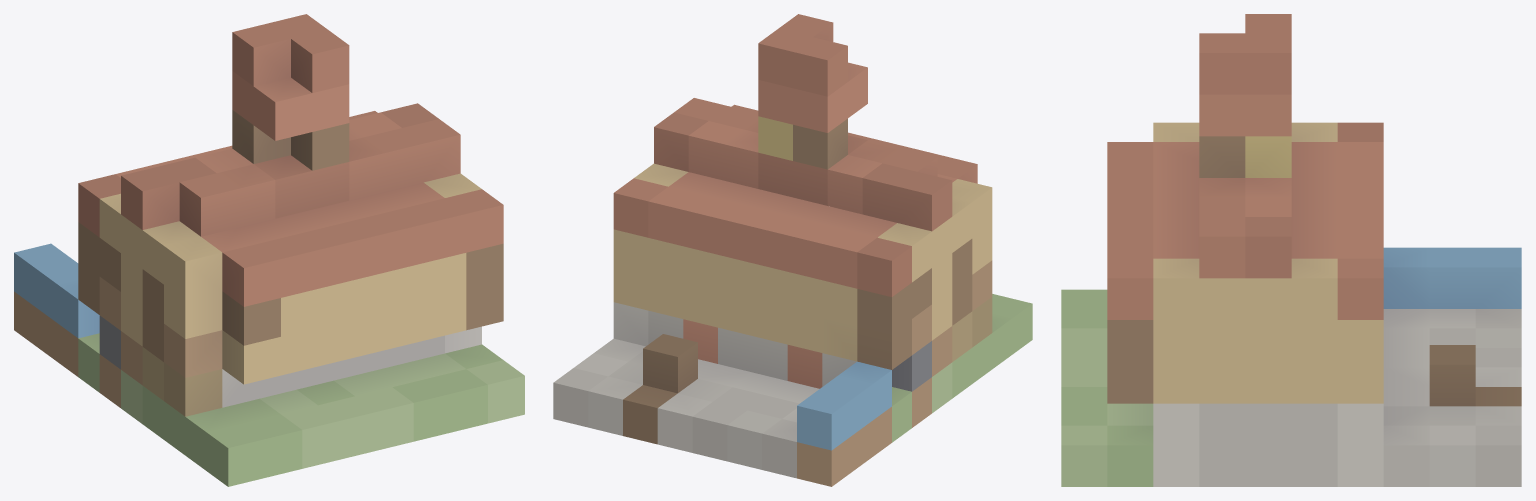
Rendered from fire_station.l1.lite.glb.
3 views of the same model, side by side, from view 1: azimuth 30°, elevation 25°; view 2: azimuth 150°, elevation 25°; view 3: azimuth 270°, elevation 25° (orthographic). The views are drawn at different scales.
Visible parts, largest first — view 1: fire_station; view 2: fire_station; view 3: fire_station.
Boxes of the visible parts, <box> form: fire_station: <box>14,14,524,486</box>; fire_station: <box>553,14,1032,486</box>; fire_station: <box>1061,14,1521,486</box>.
Bounding box in the file's own units: 4 × 4.5 × 5.
